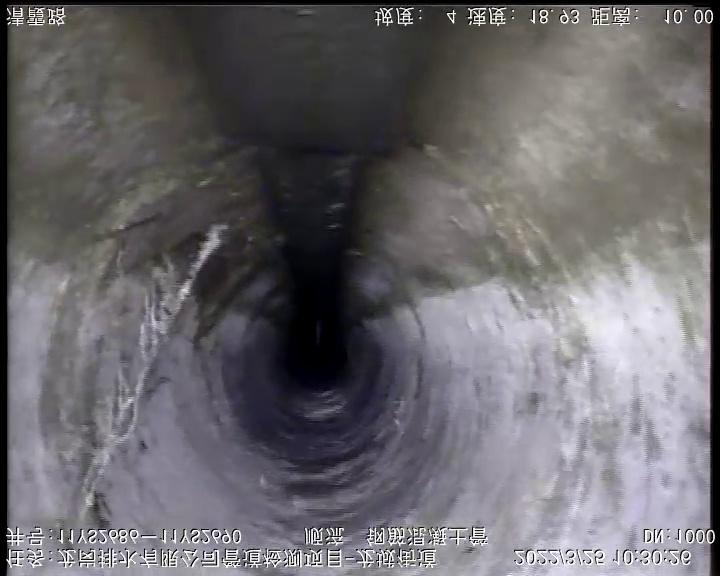SG: (81, 225, 227, 513)
